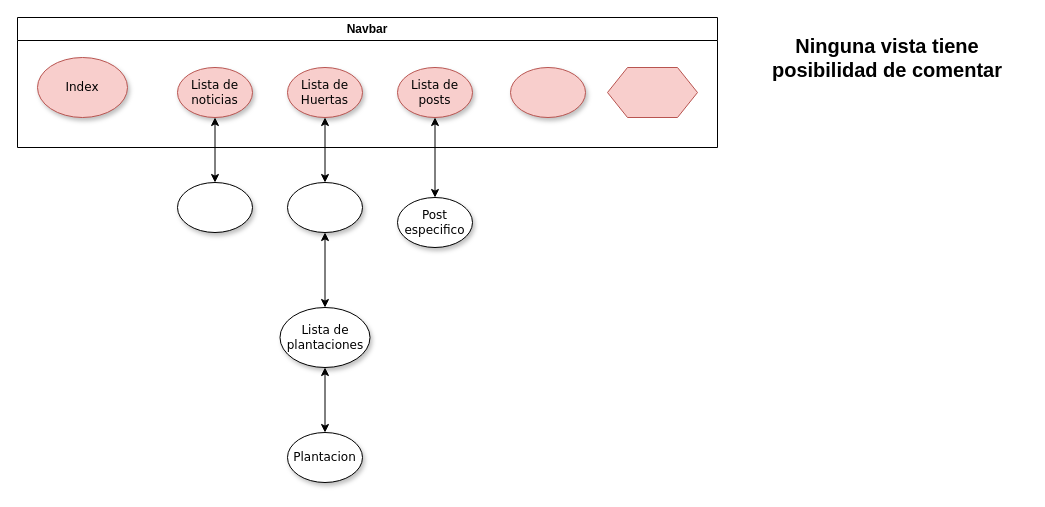
The diagram is 1045 pixels wide and 507 high, and some of its shapes have lost their labels. Here are the shapes that lost their labels. From the top down, the centre of each, then its label:
At point (549, 93): "Register".
At point (652, 92): "Login / Logout".
At point (215, 209): "Noticia especifica".
At point (325, 209): "Huerta especifica".
